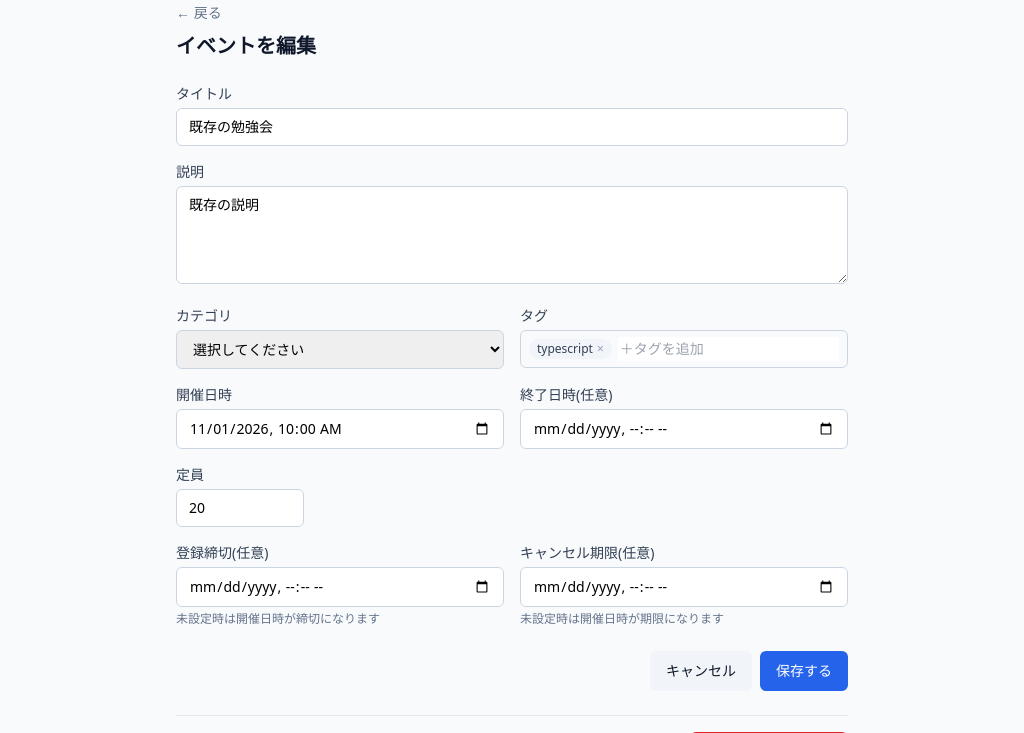
Test: EventEditPage › M-08で「戻る」をクリックすると、モーダルのみ閉じてフォーム入力を保持し、再送信しない
expect the field labelled "タイトル" is shown: met, box [176,108,848,146]
Click the button "保存する" at x=804, y=671, box [760,651,848,691]
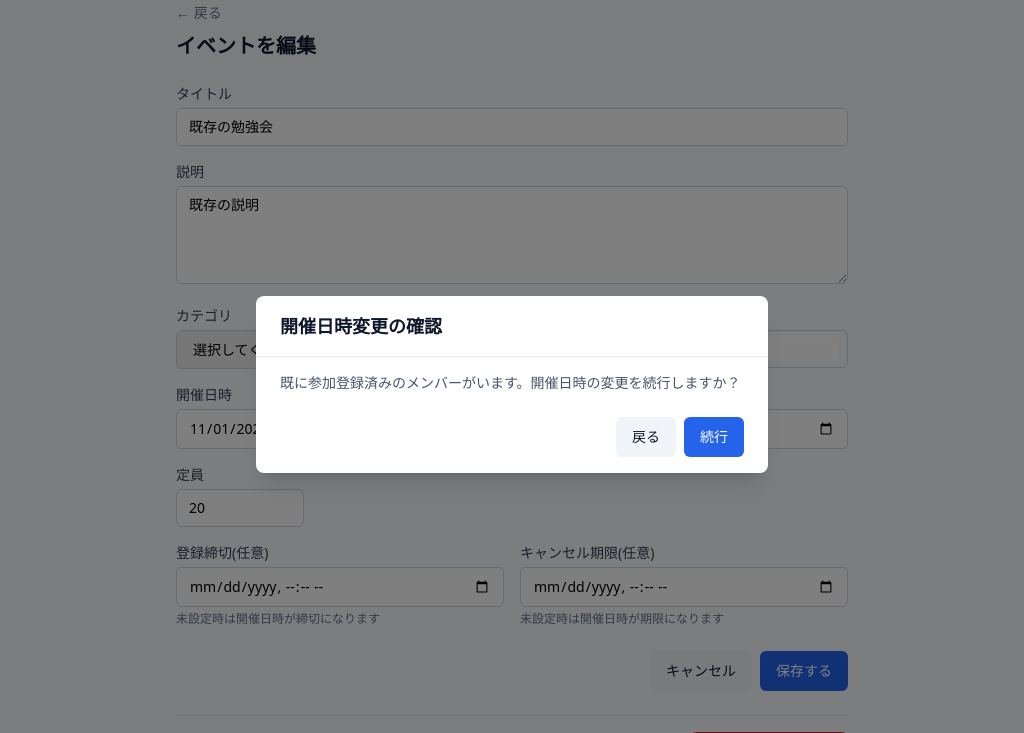
expect the text "既に参加登録済みのメンバーがいます。開催日時の変更を続行しますか？" is shown: met, box [280,372,744,392]
Click the button "戻る" at x=646, y=436, box [616,416,676,456]
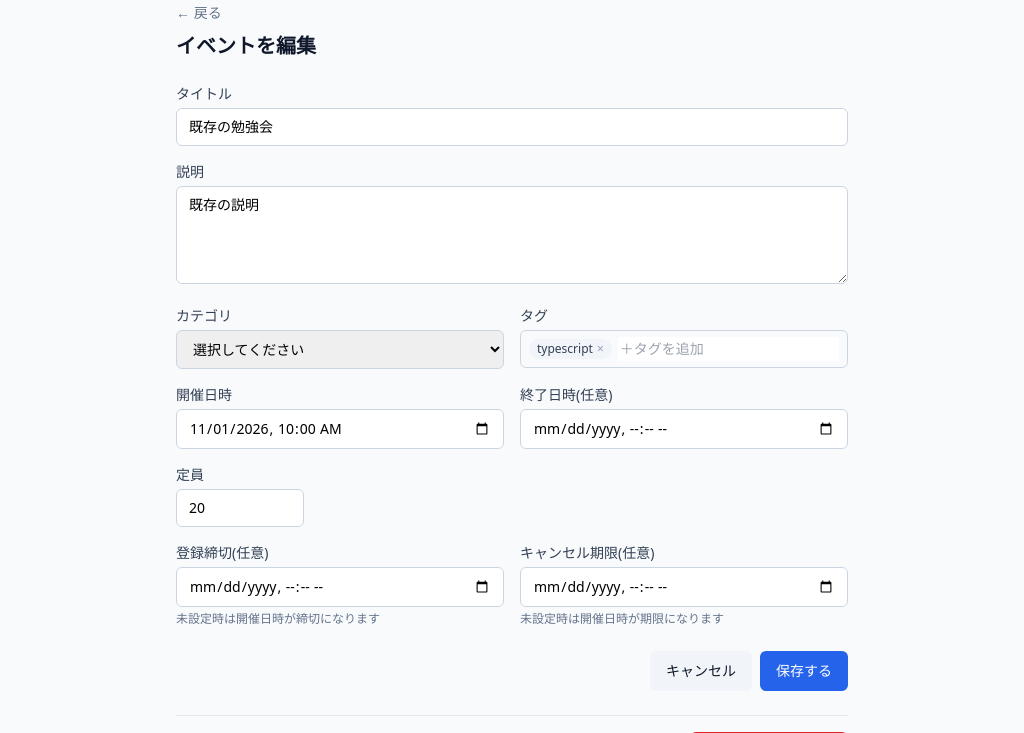
expect the field labelled "タイトル" holds "既存の勉強会": met, box [176,108,848,146]
expect the text "既に参加登録済みのメンバーがいます。開催日時の変更を続行しますか？" is gone: met
